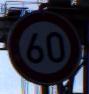Speed Limit -60-: (7, 9, 81, 84)
